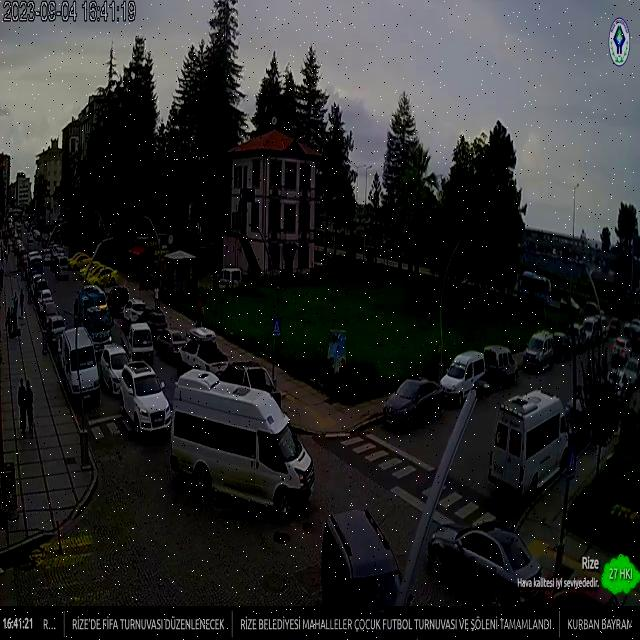Car: (427, 520, 544, 616), (319, 509, 402, 636), (118, 361, 174, 437), (381, 378, 444, 432), (220, 361, 282, 407), (438, 350, 488, 405), (178, 339, 230, 378), (100, 344, 132, 395), (483, 344, 518, 384), (523, 330, 556, 372), (123, 322, 155, 364), (156, 328, 190, 363), (81, 262, 118, 288), (144, 308, 170, 341), (44, 315, 66, 349), (108, 286, 132, 316), (550, 330, 572, 362), (123, 298, 147, 324), (216, 267, 242, 289), (610, 338, 630, 364), (36, 288, 54, 314), (68, 252, 92, 271), (32, 274, 48, 300), (42, 248, 52, 265)
Truck: (172, 368, 316, 515), (486, 389, 569, 495)
